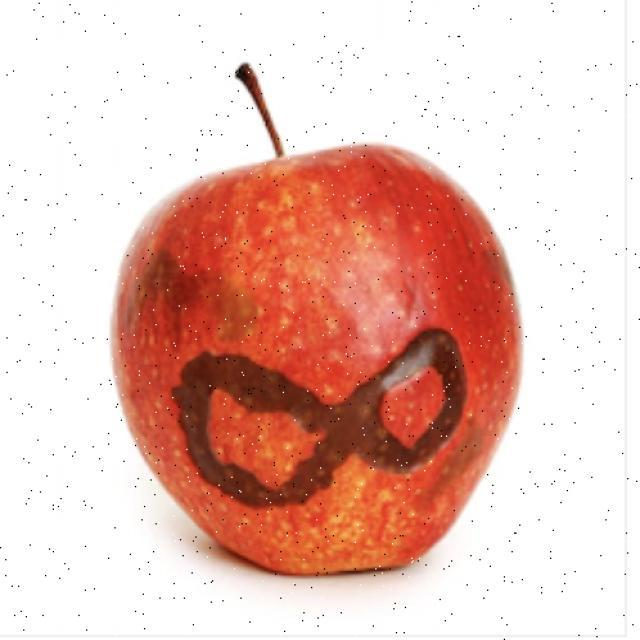Rotten: (95, 123, 523, 582)
